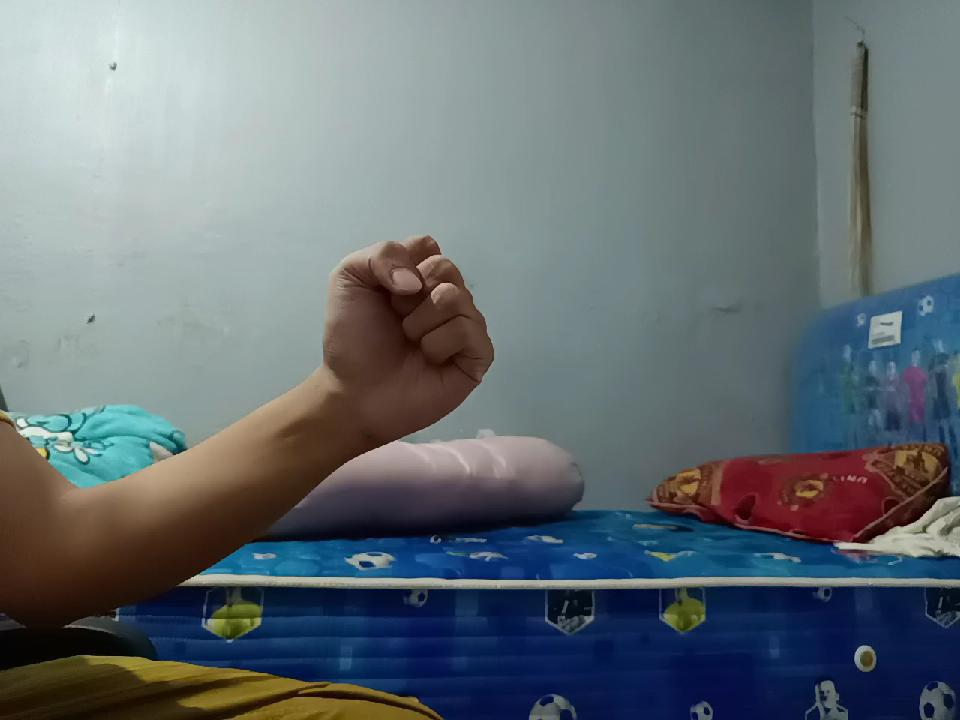rock: (321, 232, 500, 442)
